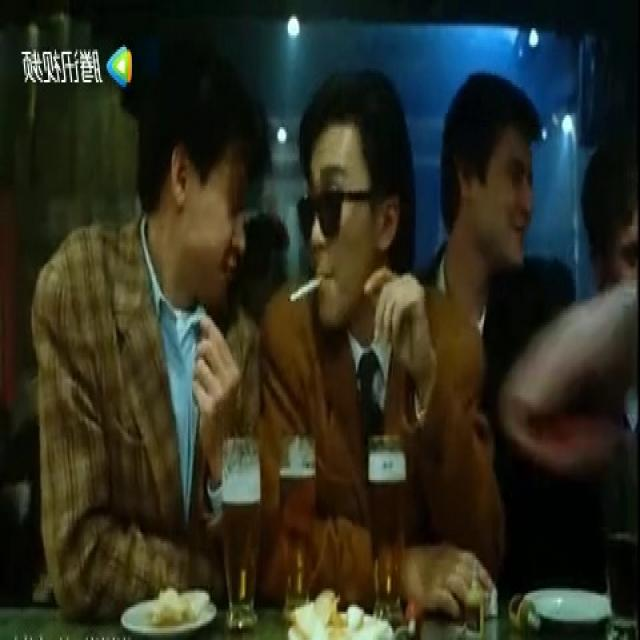smoking: (287, 272, 324, 309)
